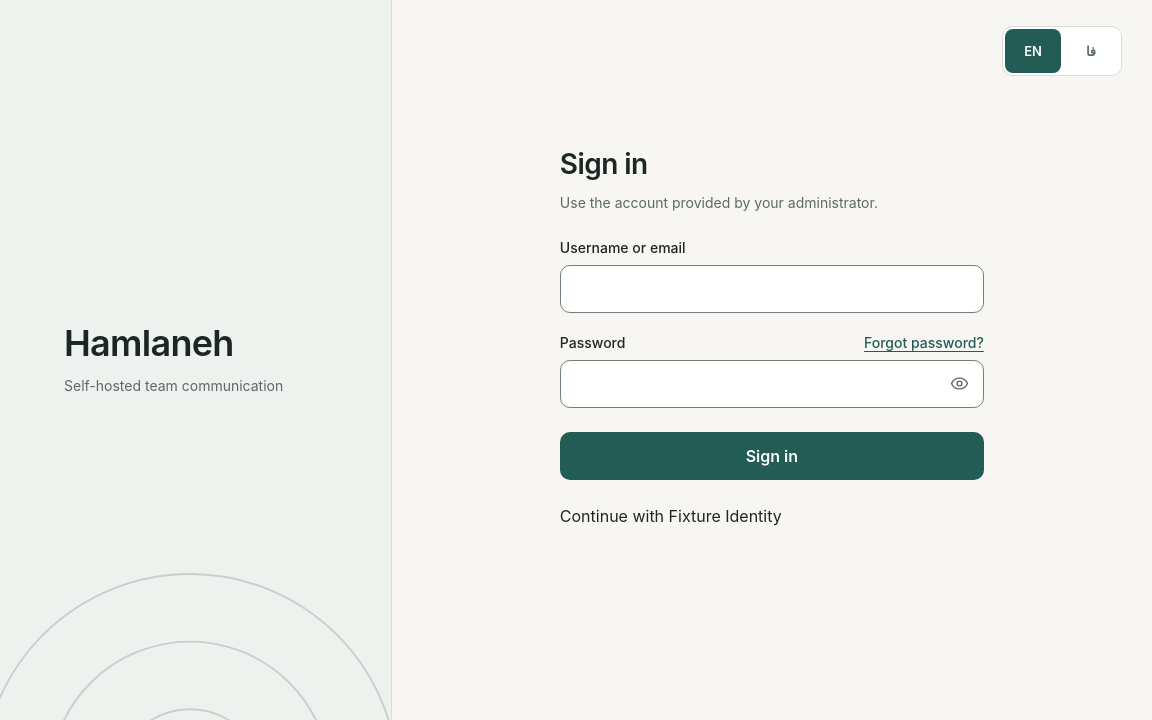
Test: rate limiting in account security › falls back to the undated prompt wording when the 429 carries no Retry-After
The width and height of the screenshot is (1152, 720).
Expected: the heading "Sign in" is shown, [560,147,648,181]
Type "fixture.admin" into the field labelled "Username or email" at (772, 289), box [560,265,984,313]
Type "fixture-password-only-for-mocks" into the password field labelled "Password" at (772, 384), box [560,360,984,408]
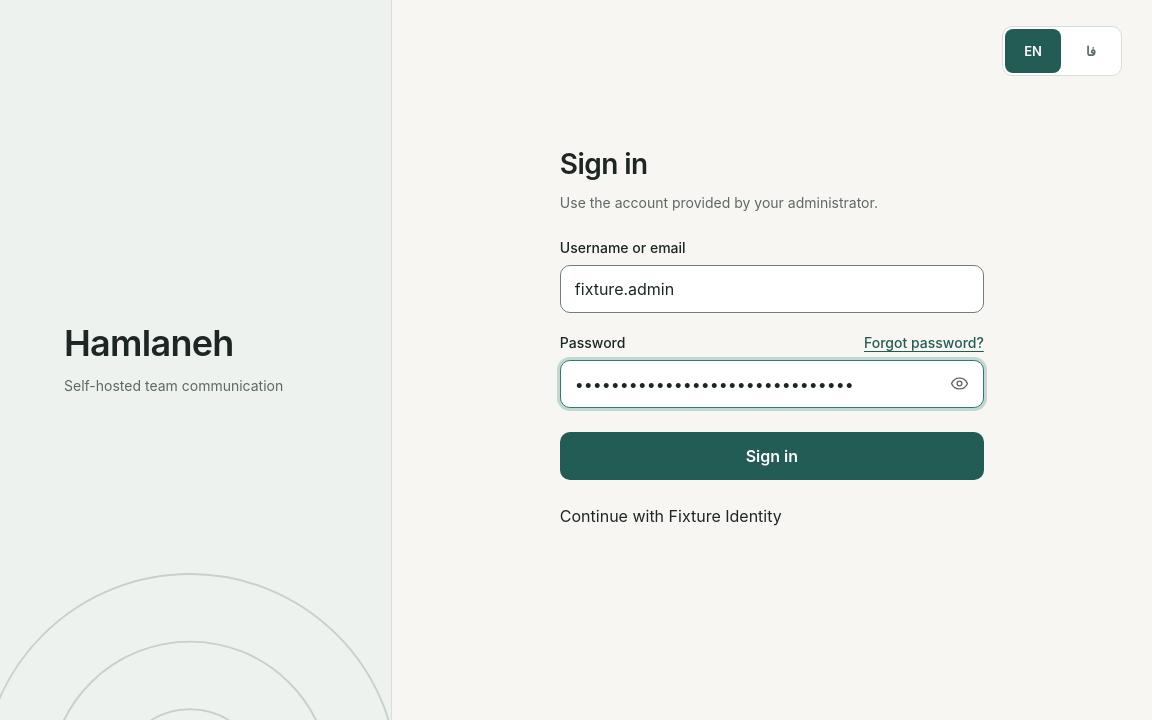
Click the button "Sign in" at (772, 456), box [560,432,984,480]
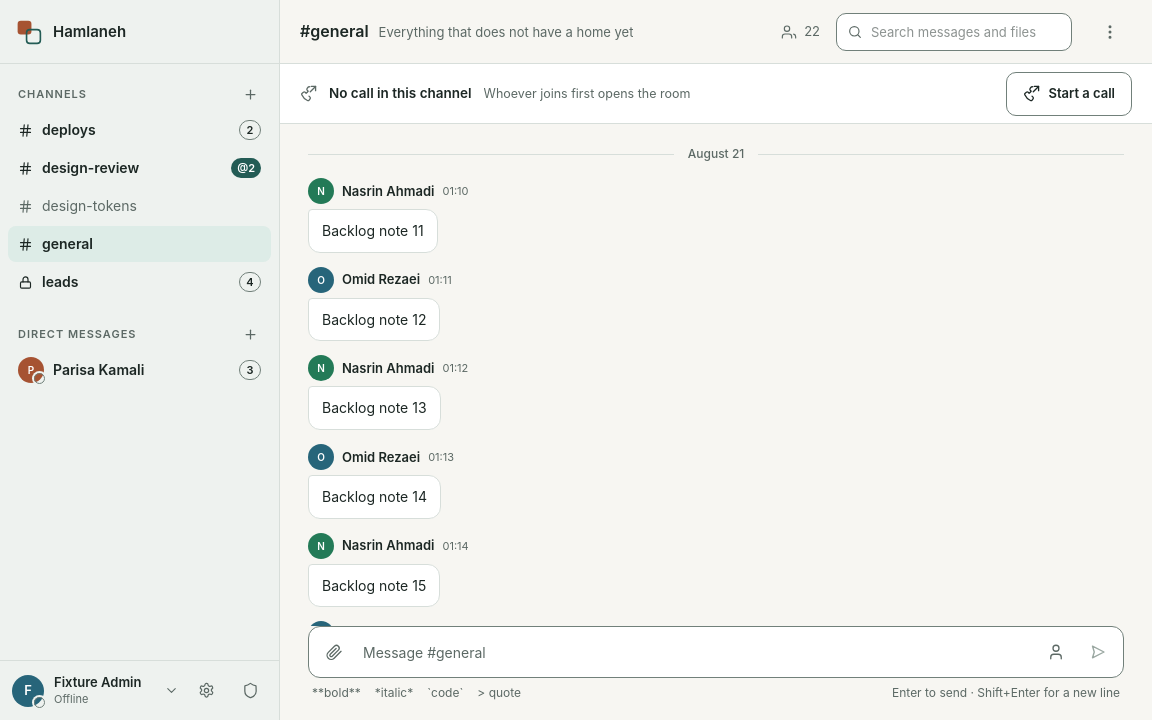
Expected: the navigation bar named "Conversations" is shown, [0,0,280,719]
Click the button named "Settings" at (206, 690), box [189,674,223,708]
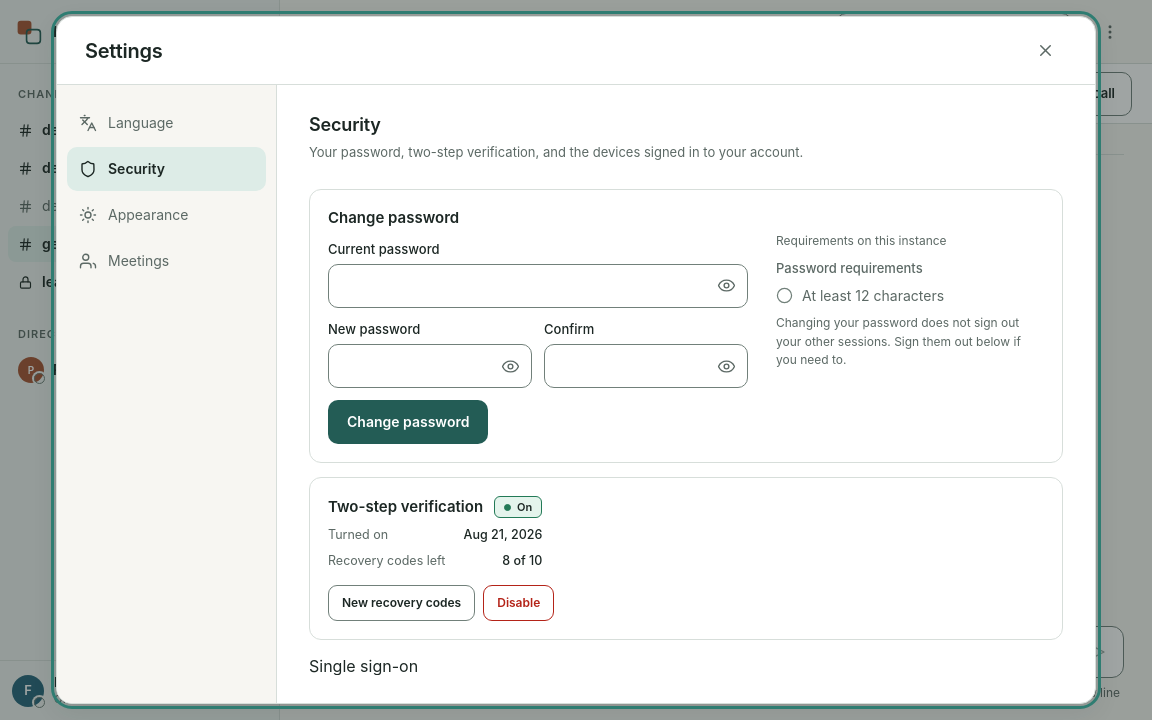
Click the button "Disable" at (519, 603), box [483,585,554,621]
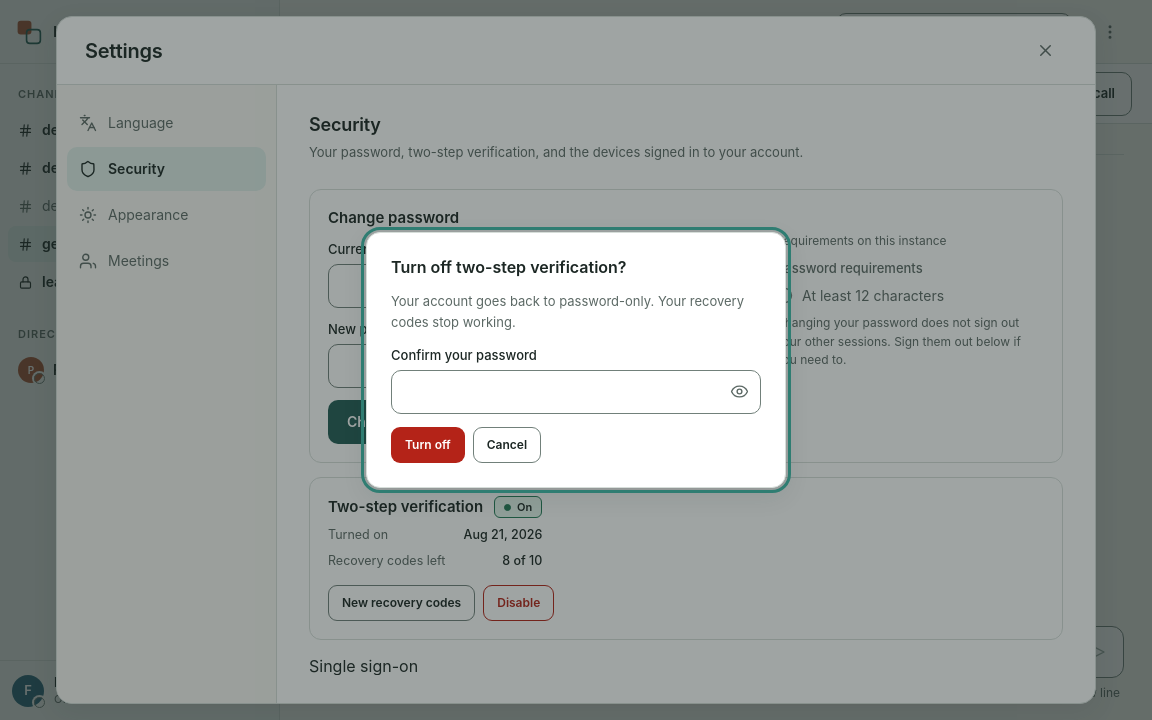
Type "fixture-password-only-for-mocks" into the password field labelled "Confirm your password" at (576, 392), box [391,370,761,414]
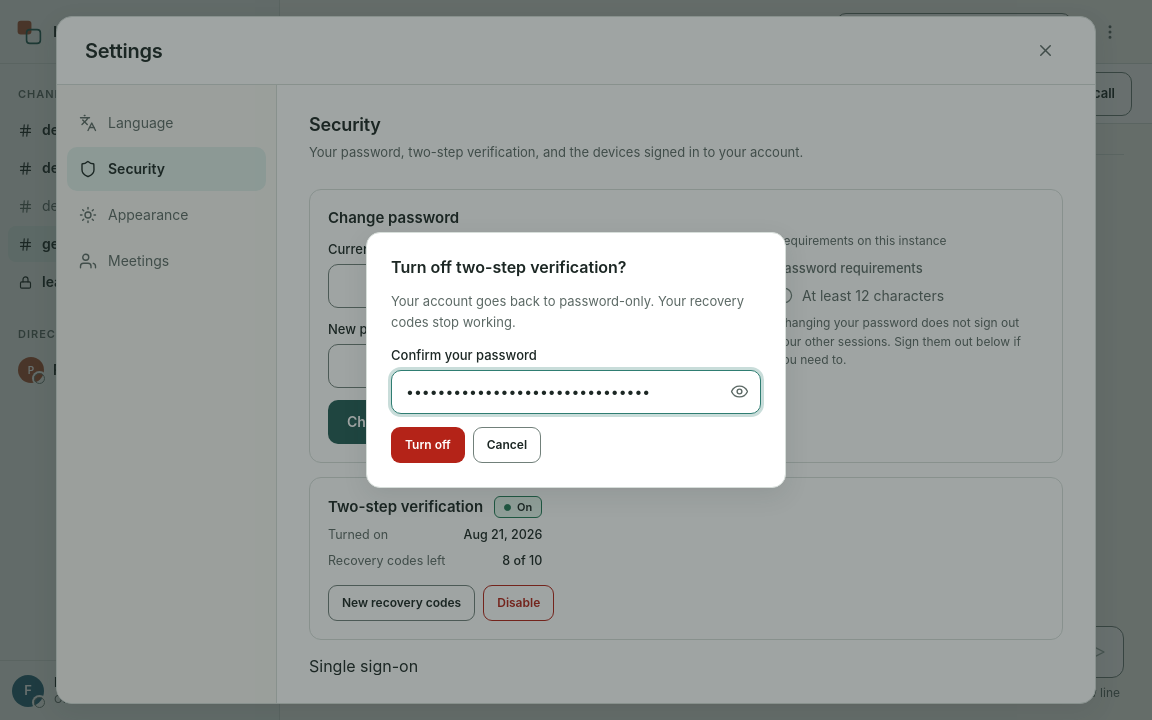
Click the button "Turn off" at (428, 445), box [391,427,465,463]
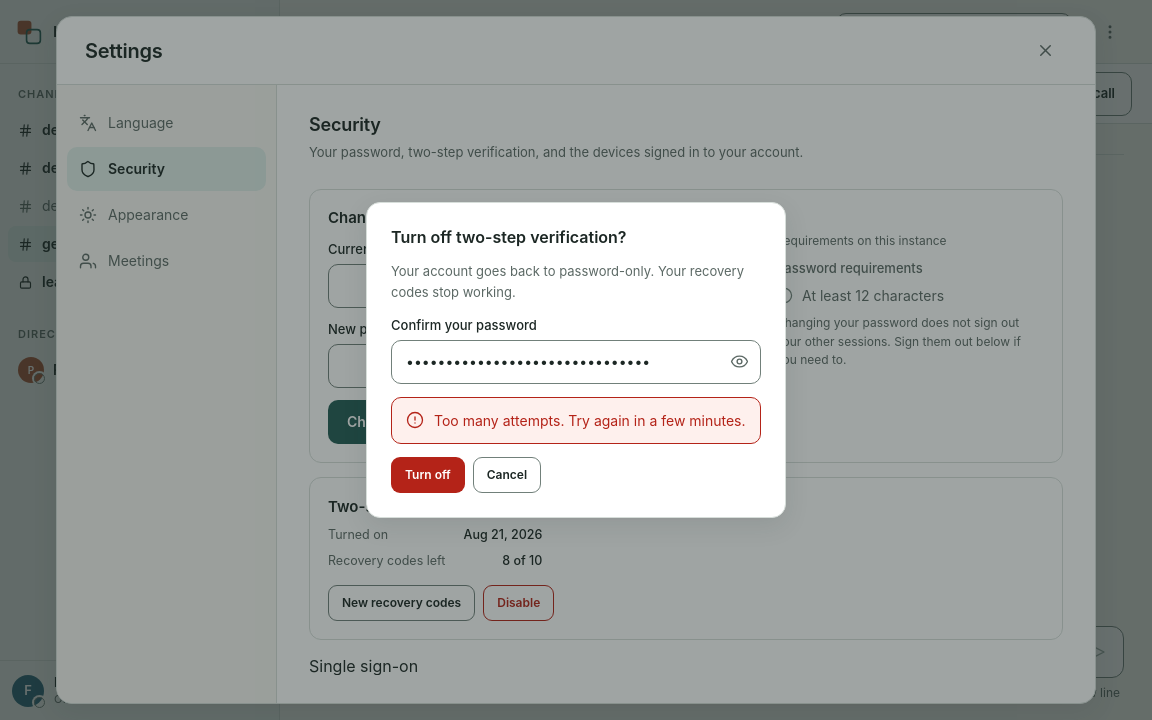
Expected: the message reads "Too many attempts. Try again in a few minutes.", [434,412,746,429]
